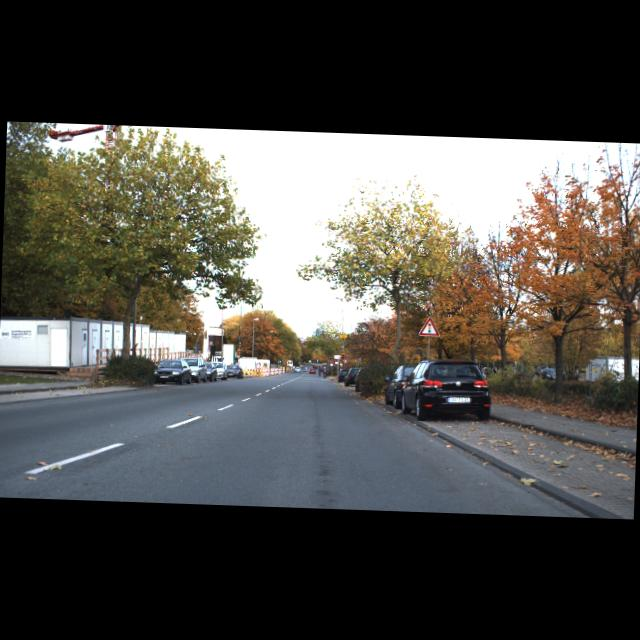danger: (418, 316, 440, 336)
